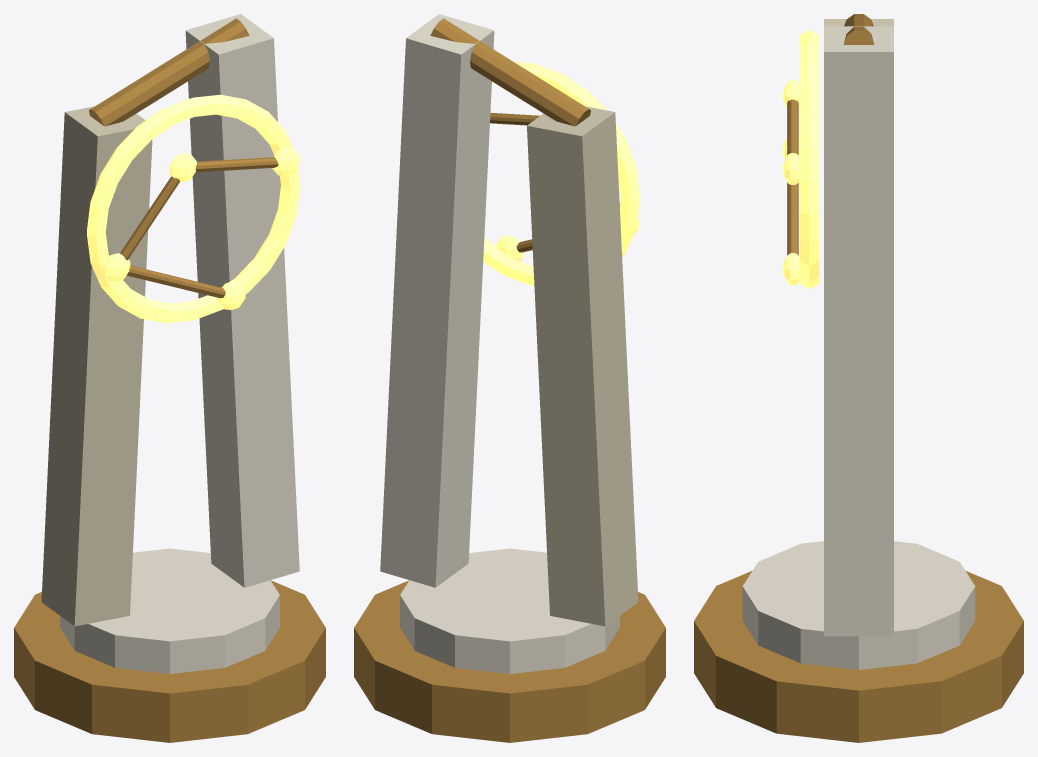
The model's file is runtime.glb.
The picture shows the model from 3 angles, left to right: view 1: azimuth 30°, elevation 25°; view 2: azimuth 150°, elevation 25°; view 3: azimuth 270°, elevation 25°; orthographic projection. The views are drawn at different scales.
Parts seen in each view (by area): view 1: aetherion-zodiac-stele-v02_right_pier_nocol, aetherion-zodiac-stele-v02_left_pier_nocol, aetherion-zodiac-stele-v02_foot_nocol, aetherion-zodiac-stele-v02_plinth_nocol, aetherion-zodiac-stele-v02_primary_orbit_nocol, aetherion-zodiac-stele-v02_fork_link_nocol, aetherion-zodiac-stele-v02_constellation_link_02_nocol, aetherion-zodiac-stele-v02_constellation_link_01_nocol, aetherion-zodiac-stele-v02_constellation_link_00_nocol, aetherion-zodiac-stele-v02_constellation_star_02_nocol, aetherion-zodiac-stele-v02_constellation_star_01_nocol, aetherion-zodiac-stele-v02_constellation_star_00_nocol (+1 smaller); view 2: aetherion-zodiac-stele-v02_right_pier_nocol, aetherion-zodiac-stele-v02_left_pier_nocol, aetherion-zodiac-stele-v02_foot_nocol, aetherion-zodiac-stele-v02_plinth_nocol, aetherion-zodiac-stele-v02_primary_orbit_nocol, aetherion-zodiac-stele-v02_fork_link_nocol; view 3: aetherion-zodiac-stele-v02_right_pier_nocol, aetherion-zodiac-stele-v02_foot_nocol, aetherion-zodiac-stele-v02_plinth_nocol, aetherion-zodiac-stele-v02_primary_orbit_nocol, aetherion-zodiac-stele-v02_constellation_link_02_nocol, aetherion-zodiac-stele-v02_fork_link_nocol, aetherion-zodiac-stele-v02_constellation_link_00_nocol.
Boxes of the visible parts, x1=… form: aetherion-zodiac-stele-v02_right_pier_nocol: x1=185, y1=14, x2=299, y2=587; aetherion-zodiac-stele-v02_left_pier_nocol: x1=41, y1=106, x2=152, y2=626; aetherion-zodiac-stele-v02_foot_nocol: x1=14, y1=580, x2=325, y2=742; aetherion-zodiac-stele-v02_plinth_nocol: x1=60, y1=548, x2=279, y2=673; aetherion-zodiac-stele-v02_primary_orbit_nocol: x1=87, y1=94, x2=299, y2=323; aetherion-zodiac-stele-v02_fork_link_nocol: x1=89, y1=18, x2=249, y2=126; aetherion-zodiac-stele-v02_constellation_link_02_nocol: x1=127, y1=265, x2=225, y2=298; aetherion-zodiac-stele-v02_constellation_link_01_nocol: x1=120, y1=176, x2=179, y2=260; aetherion-zodiac-stele-v02_constellation_link_00_nocol: x1=195, y1=157, x2=278, y2=172; aetherion-zodiac-stele-v02_constellation_star_02_nocol: x1=103, y1=253, x2=130, y2=281; aetherion-zodiac-stele-v02_constellation_star_01_nocol: x1=169, y1=153, x2=196, y2=181; aetherion-zodiac-stele-v02_constellation_star_00_nocol: x1=272, y1=147, x2=299, y2=175; aetherion-zodiac-stele-v02_right_pier_nocol: x1=380, y1=14, x2=494, y2=587; aetherion-zodiac-stele-v02_left_pier_nocol: x1=527, y1=106, x2=638, y2=626; aetherion-zodiac-stele-v02_foot_nocol: x1=354, y1=580, x2=665, y2=742; aetherion-zodiac-stele-v02_plinth_nocol: x1=400, y1=548, x2=619, y2=673; aetherion-zodiac-stele-v02_primary_orbit_nocol: x1=483, y1=61, x2=639, y2=286; aetherion-zodiac-stele-v02_fork_link_nocol: x1=430, y1=18, x2=590, y2=126; aetherion-zodiac-stele-v02_right_pier_nocol: x1=824, y1=26, x2=893, y2=636; aetherion-zodiac-stele-v02_foot_nocol: x1=694, y1=571, x2=1023, y2=742; aetherion-zodiac-stele-v02_plinth_nocol: x1=742, y1=541, x2=975, y2=669; aetherion-zodiac-stele-v02_primary_orbit_nocol: x1=799, y1=30, x2=819, y2=288; aetherion-zodiac-stele-v02_constellation_link_02_nocol: x1=787, y1=182, x2=798, y2=255; aetherion-zodiac-stele-v02_fork_link_nocol: x1=843, y1=14, x2=874, y2=44; aetherion-zodiac-stele-v02_constellation_link_00_nocol: x1=787, y1=99, x2=798, y2=155.
Size of the model in its own units: 3.2 by 7.25 by 3.2.
